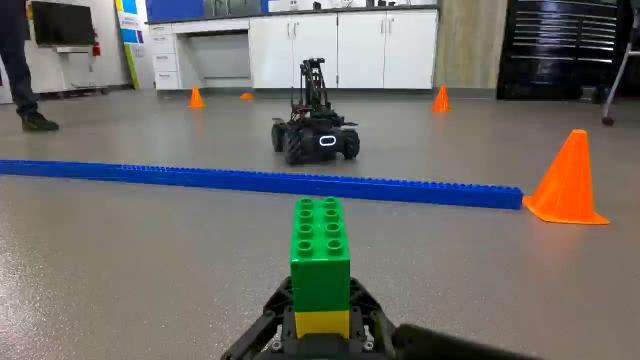robot: (269, 52, 365, 167)
